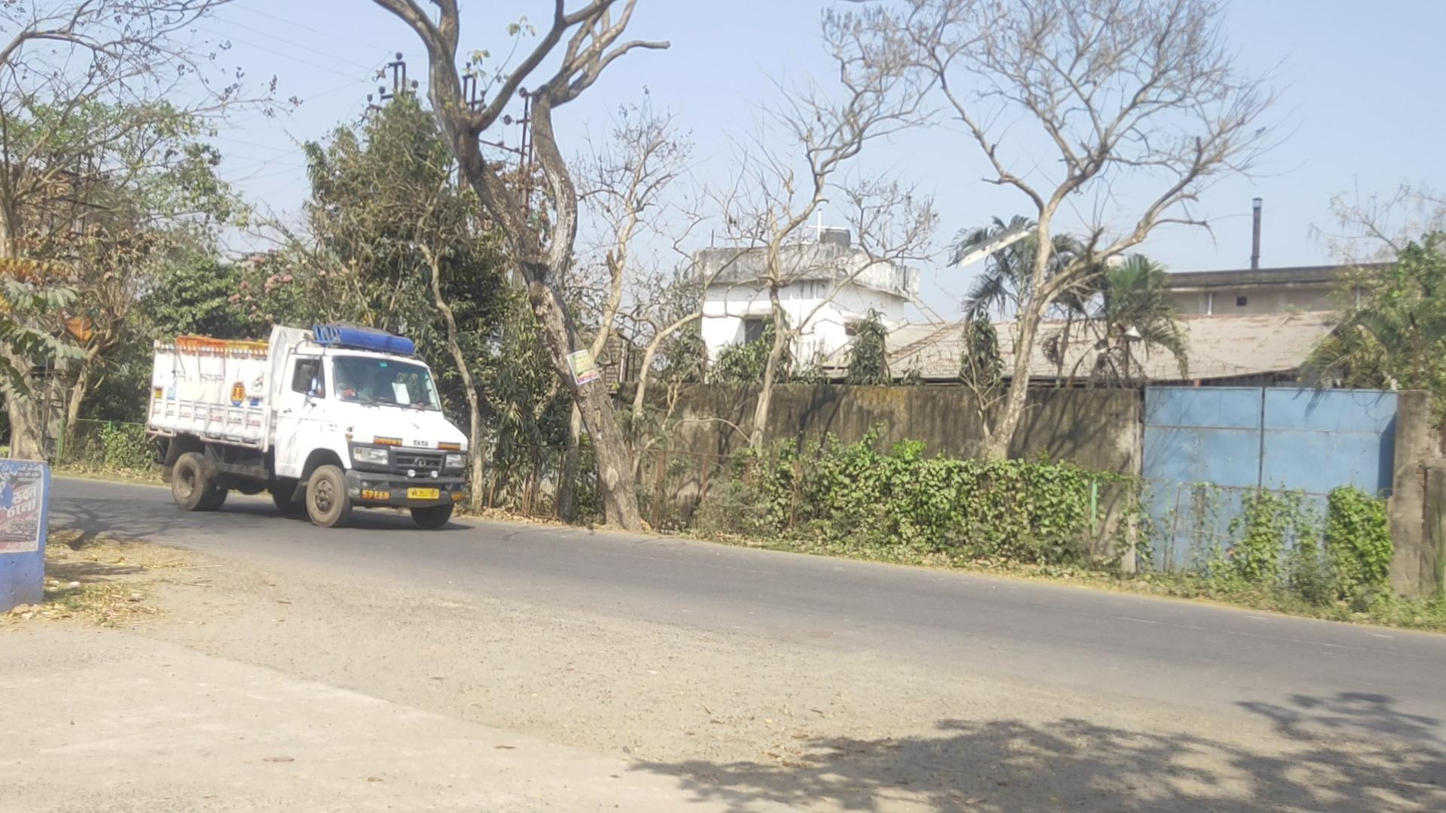truck: (143, 324, 470, 528)
